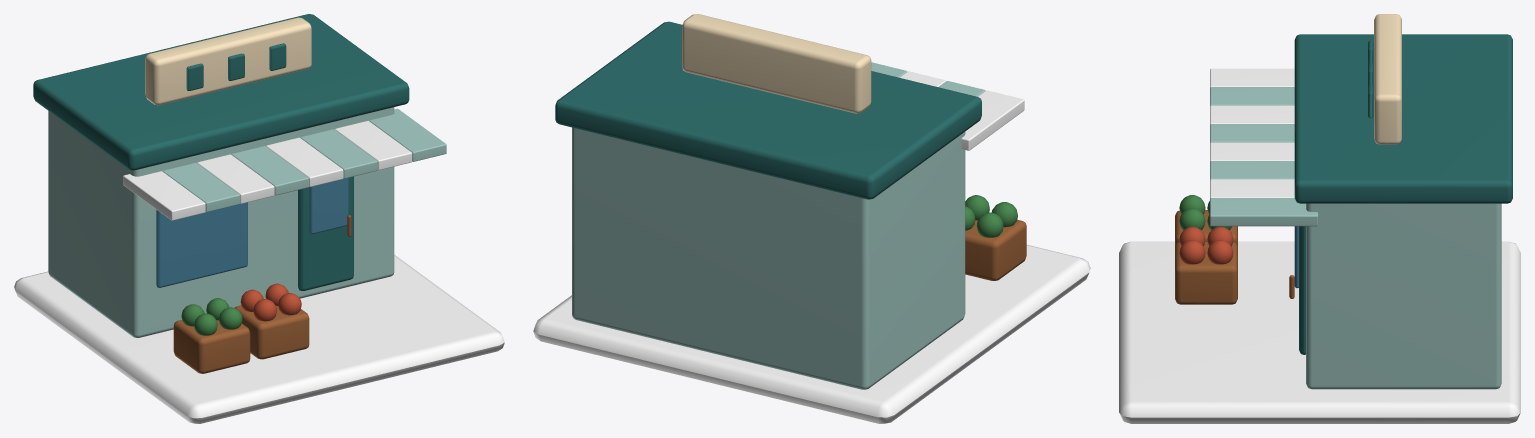
File: market.glb
The picture shows the model from 3 angles, left to right: view 1: azimuth 30°, elevation 25°; view 2: azimuth 150°, elevation 25°; view 3: azimuth 270°, elevation 25°; orthographic projection. The views are drawn at different scales.
Visible parts, largest first — view 1: Batch_Sage blue plaster_, Batch_Porcelain_, Batch_Teal door_, Market sign, ShopWindow, Batch_Honey wood_, Door, Door glass, Batch_Leaves_, Batch_Terracotta roof_; view 2: Batch_Sage blue plaster_, Batch_Teal door_, Batch_Porcelain_, Market sign, Batch_Honey wood_, Batch_Leaves_; view 3: Batch_Porcelain_, Batch_Sage blue plaster_, Batch_Teal door_, Market sign, Batch_Honey wood_, Batch_Terracotta roof_, Batch_Leaves_, Door.
Part boxes in pixels (box(x1,y1,x2,y2)): Batch_Sage blue plaster_: box(48, 107, 446, 337); Batch_Porcelain_: box(14, 121, 504, 423); Batch_Teal door_: box(33, 14, 409, 170); Market sign: box(145, 17, 311, 105); ShopWindow: box(156, 202, 247, 287); Batch_Honey wood_: box(173, 305, 309, 373); Door: box(298, 176, 353, 290); Door glass: box(309, 178, 348, 234); Batch_Leaves_: box(181, 298, 242, 335); Batch_Terracotta roof_: box(240, 283, 301, 321); Batch_Sage blue plaster_: box(572, 62, 985, 389); Batch_Teal door_: box(555, 21, 981, 199); Batch_Porcelain_: box(533, 71, 1090, 423); Market sign: box(682, 14, 871, 113); Batch_Honey wood_: box(965, 219, 1026, 280); Batch_Leaves_: box(965, 195, 1017, 237); Batch_Porcelain_: box(1119, 68, 1520, 423); Batch_Sage blue plaster_: box(1210, 87, 1501, 389); Batch_Teal door_: box(1294, 34, 1512, 203); Market sign: box(1374, 14, 1401, 144); Batch_Honey wood_: box(1175, 210, 1237, 304); Batch_Terracotta roof_: box(1179, 226, 1233, 264); Batch_Leaves_: box(1179, 195, 1231, 230); Door: box(1299, 226, 1305, 354).
Bounding box in the file's own units: 2.3 × 1.83 × 2.3.
